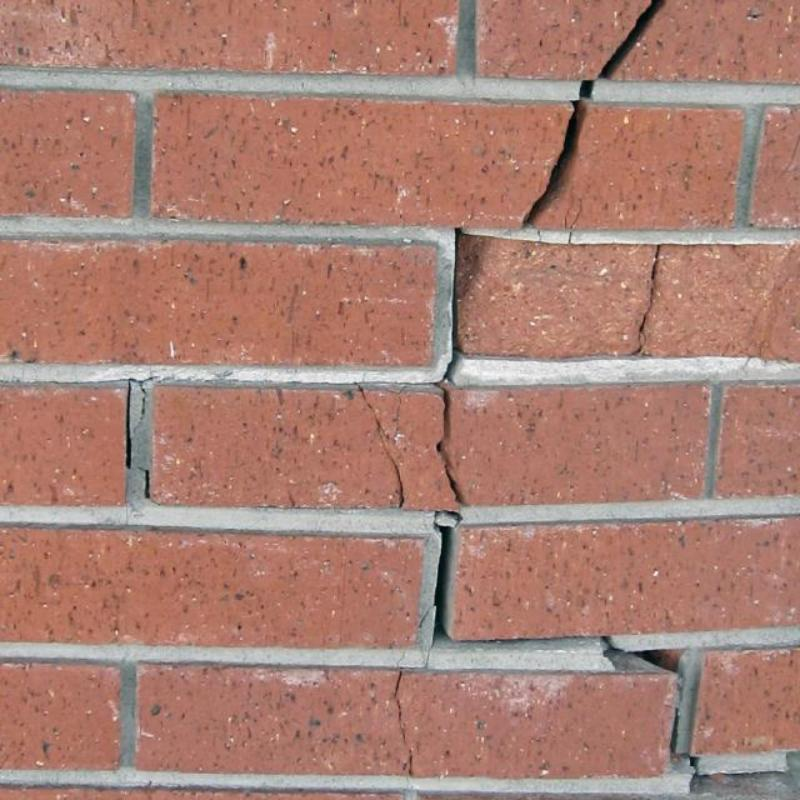pothole: (523, 78, 595, 226), (452, 636, 689, 674), (357, 386, 406, 511), (595, 0, 662, 79), (436, 228, 462, 387), (434, 510, 461, 648), (631, 245, 661, 357), (437, 389, 464, 503), (689, 770, 789, 792), (669, 708, 701, 774), (130, 375, 159, 436), (300, 380, 442, 390), (385, 384, 408, 440), (138, 468, 162, 507), (394, 670, 406, 742), (568, 198, 584, 245), (49, 378, 129, 384), (422, 636, 435, 669), (418, 604, 435, 628), (127, 380, 131, 468), (395, 650, 408, 669), (407, 750, 415, 777), (564, 209, 570, 229), (536, 230, 542, 245)
